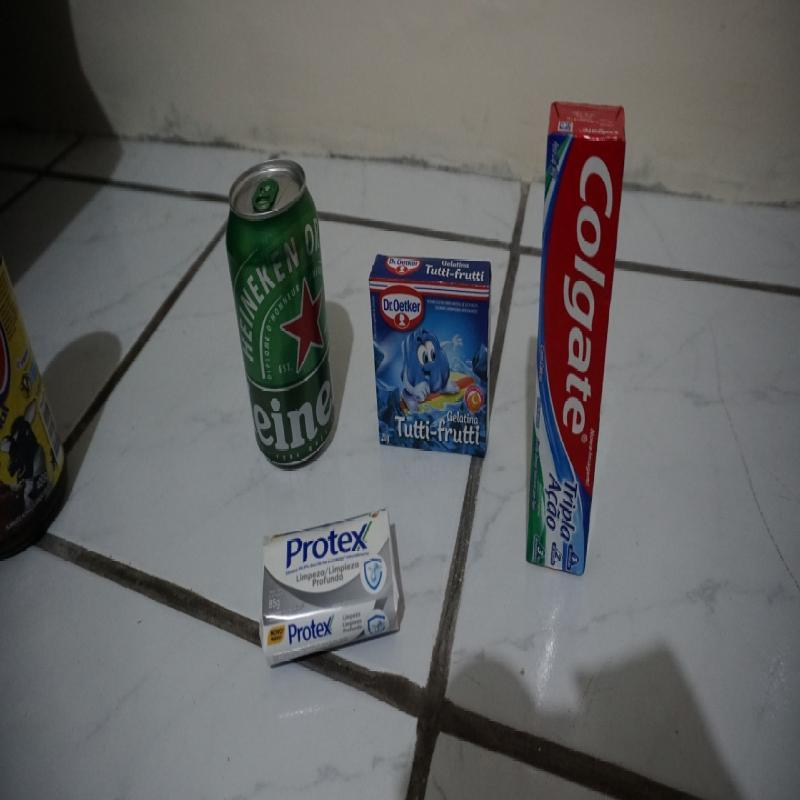Beer can: (225, 157, 337, 472)
Chocolate Powder: (1, 248, 68, 562)
Gelatine: (369, 251, 492, 456)
Soap: (263, 512, 403, 661)
Toothpaste: (524, 105, 624, 575)
